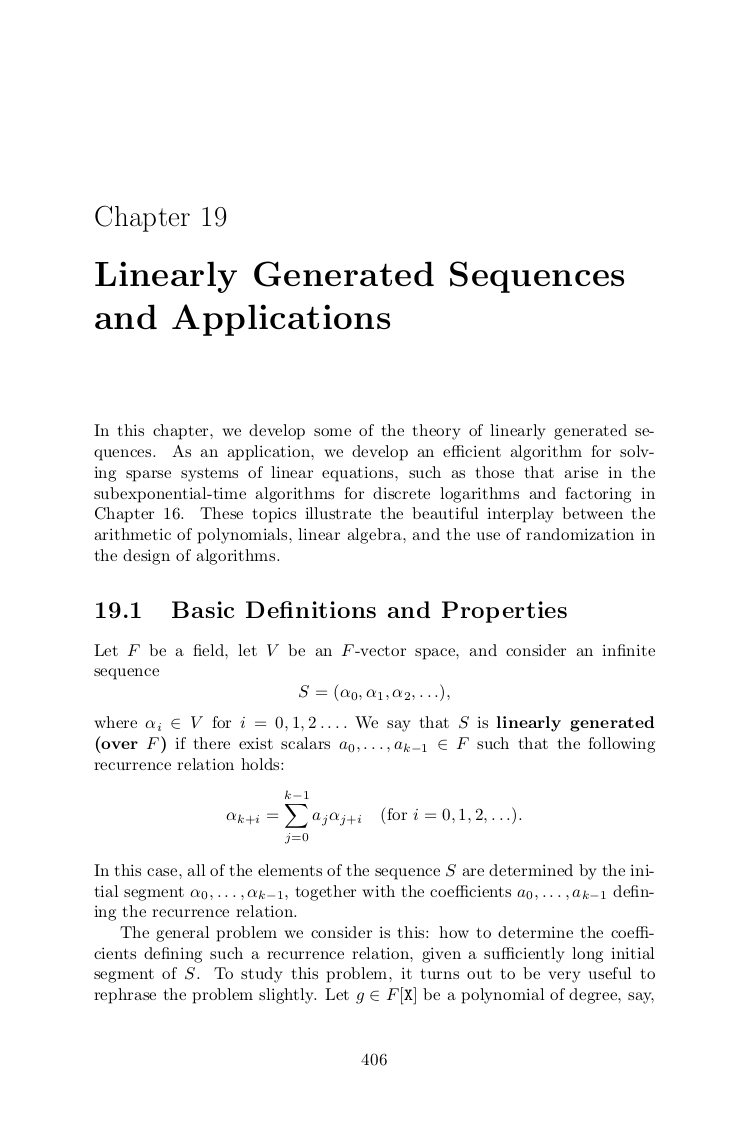formula: (226, 790, 521, 843), (299, 683, 449, 702)
